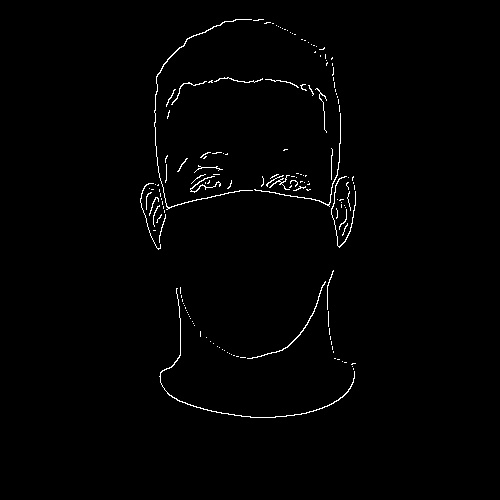mask: (175, 197, 331, 357)
